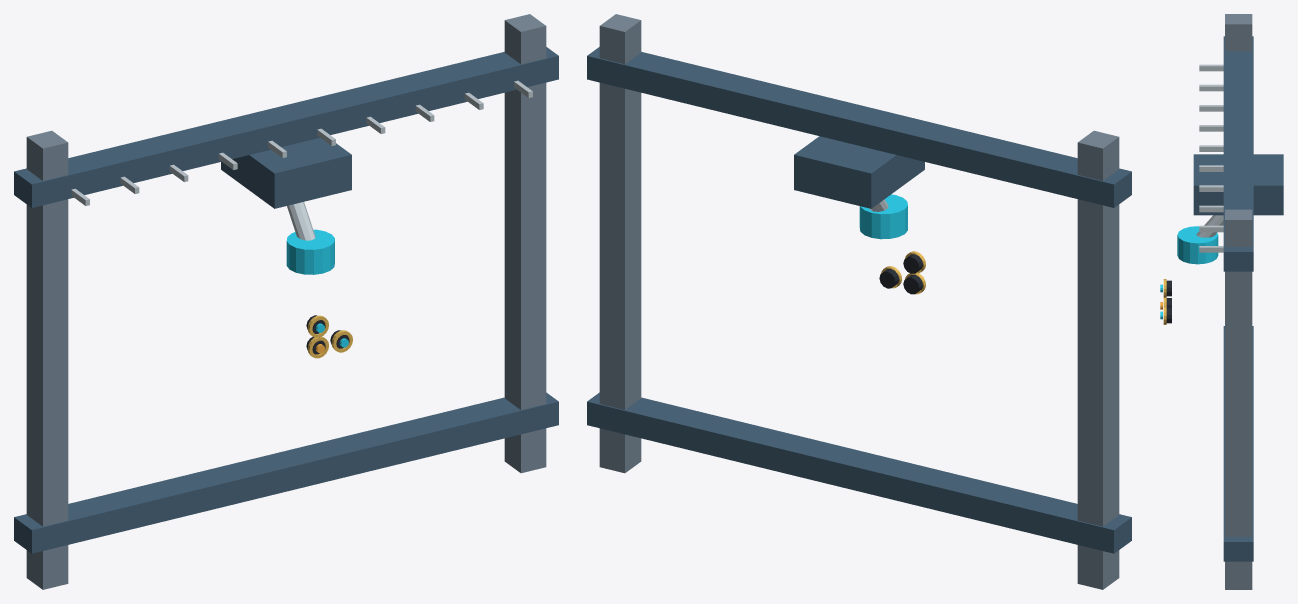
File: 27_L82_NearFieldScannerXYGantry.fbx
3 renders of one model, left to right at view 1: azimuth 30°, elevation 25°; view 2: azimuth 150°, elevation 25°; view 3: azimuth 270°, elevation 25°, orthographic. The views are drawn at different scales.
Visible parts, largest first — view 1: NearFieldScannerXYGantry, NearFieldScannerXYGantry_Part_0014, NearFieldScannerXYGantry_Part_0016, NearFieldScannerXYGantry_Part_0015; view 2: NearFieldScannerXYGantry, NearFieldScannerXYGantry_Part_0014, NearFieldScannerXYGantry_Part_0016; view 3: NearFieldScannerXYGantry, NearFieldScannerXYGantry_Part_0014, NearFieldScannerXYGantry_Part_0016, NearFieldScannerXYGantry_Part_0015.
Part boxes in pixels (x1=…): NearFieldScannerXYGantry: x1=14, y1=14, x2=558, y2=589; NearFieldScannerXYGantry_Part_0014: x1=221, y1=138, x2=351, y2=208; NearFieldScannerXYGantry_Part_0016: x1=286, y1=229, x2=334, y2=274; NearFieldScannerXYGantry_Part_0015: x1=287, y1=202, x2=315, y2=240; NearFieldScannerXYGantry: x1=587, y1=14, x2=1131, y2=589; NearFieldScannerXYGantry_Part_0014: x1=794, y1=136, x2=924, y2=208; NearFieldScannerXYGantry_Part_0016: x1=859, y1=194, x2=907, y2=239; NearFieldScannerXYGantry: x1=1160, y1=14, x2=1253, y2=589; NearFieldScannerXYGantry_Part_0014: x1=1193, y1=154, x2=1283, y2=215; NearFieldScannerXYGantry_Part_0016: x1=1177, y1=226, x2=1218, y2=264; NearFieldScannerXYGantry_Part_0015: x1=1196, y1=215, x2=1223, y2=237.
Size of the model in its own units: 375 by 300 by 90.5.
